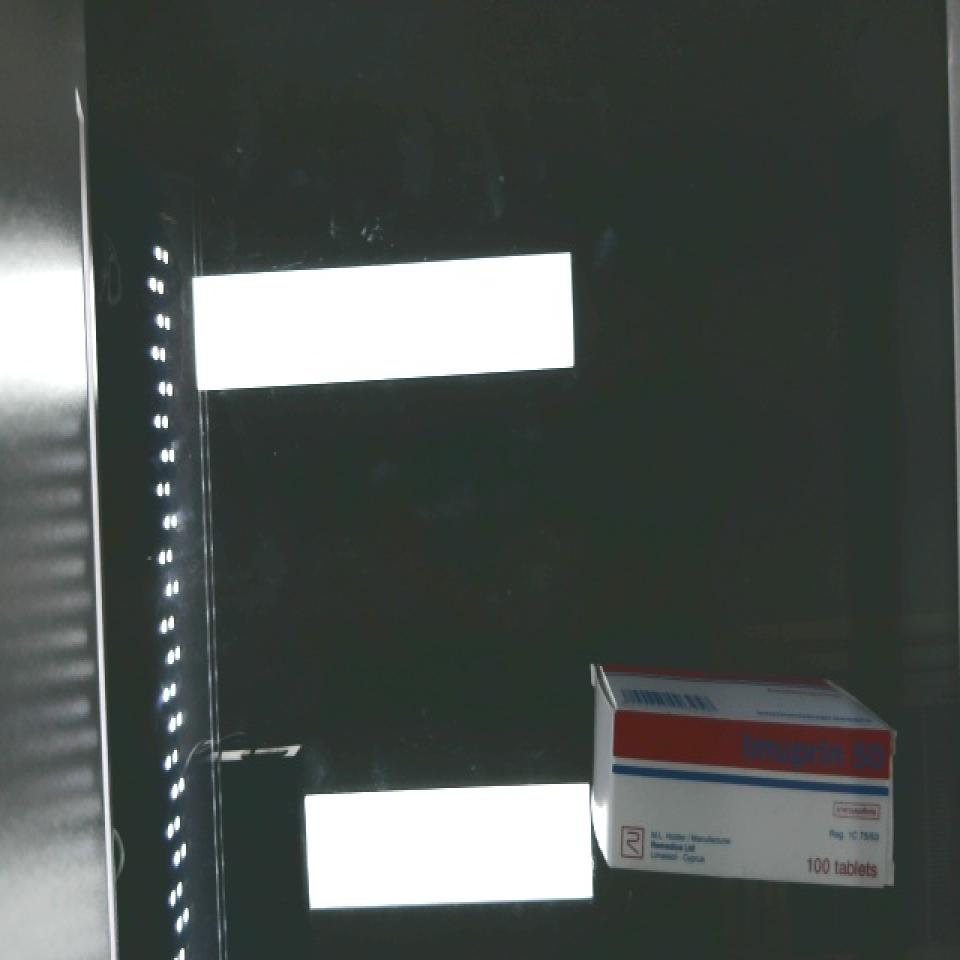medicine_box: (604, 712, 901, 892)
medicine_label_obb: (726, 716, 903, 793)
